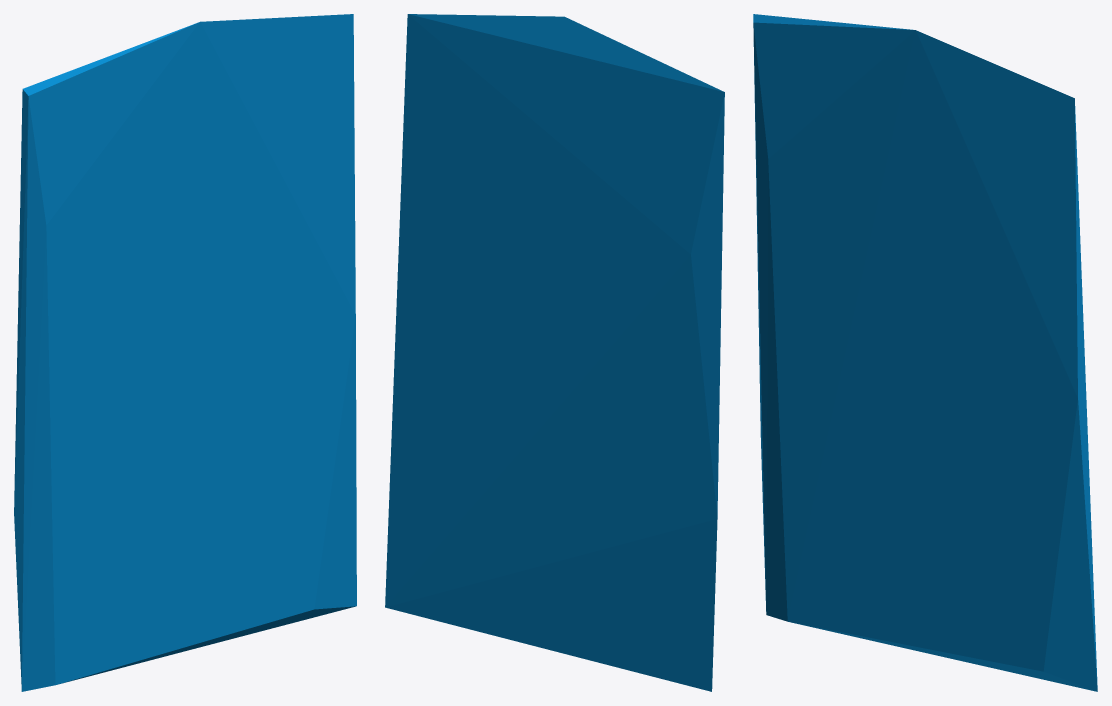
File: waste_bin_convex_piece_003.obj
The picture shows the model from 3 angles, left to right: view 1: azimuth 30°, elevation 25°; view 2: azimuth 150°, elevation 25°; view 3: azimuth 330°, elevation 25°; orthographic projection. The views are drawn at different scales.
Bounding box in the file's own units: 0.2209 × 0.3957 × 0.0167.
